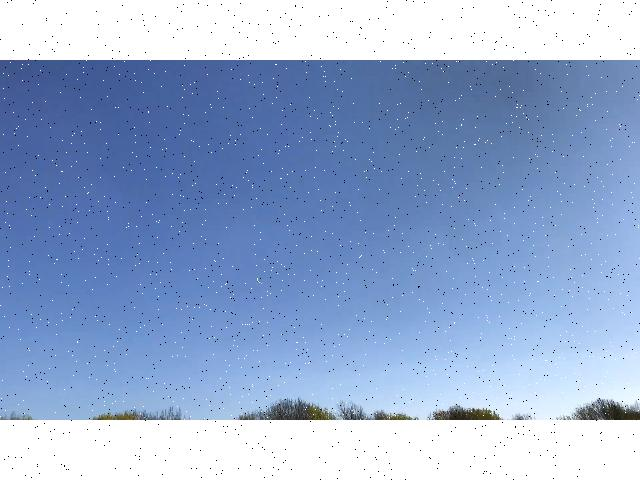Anti-Drone: (244, 270, 274, 298)
